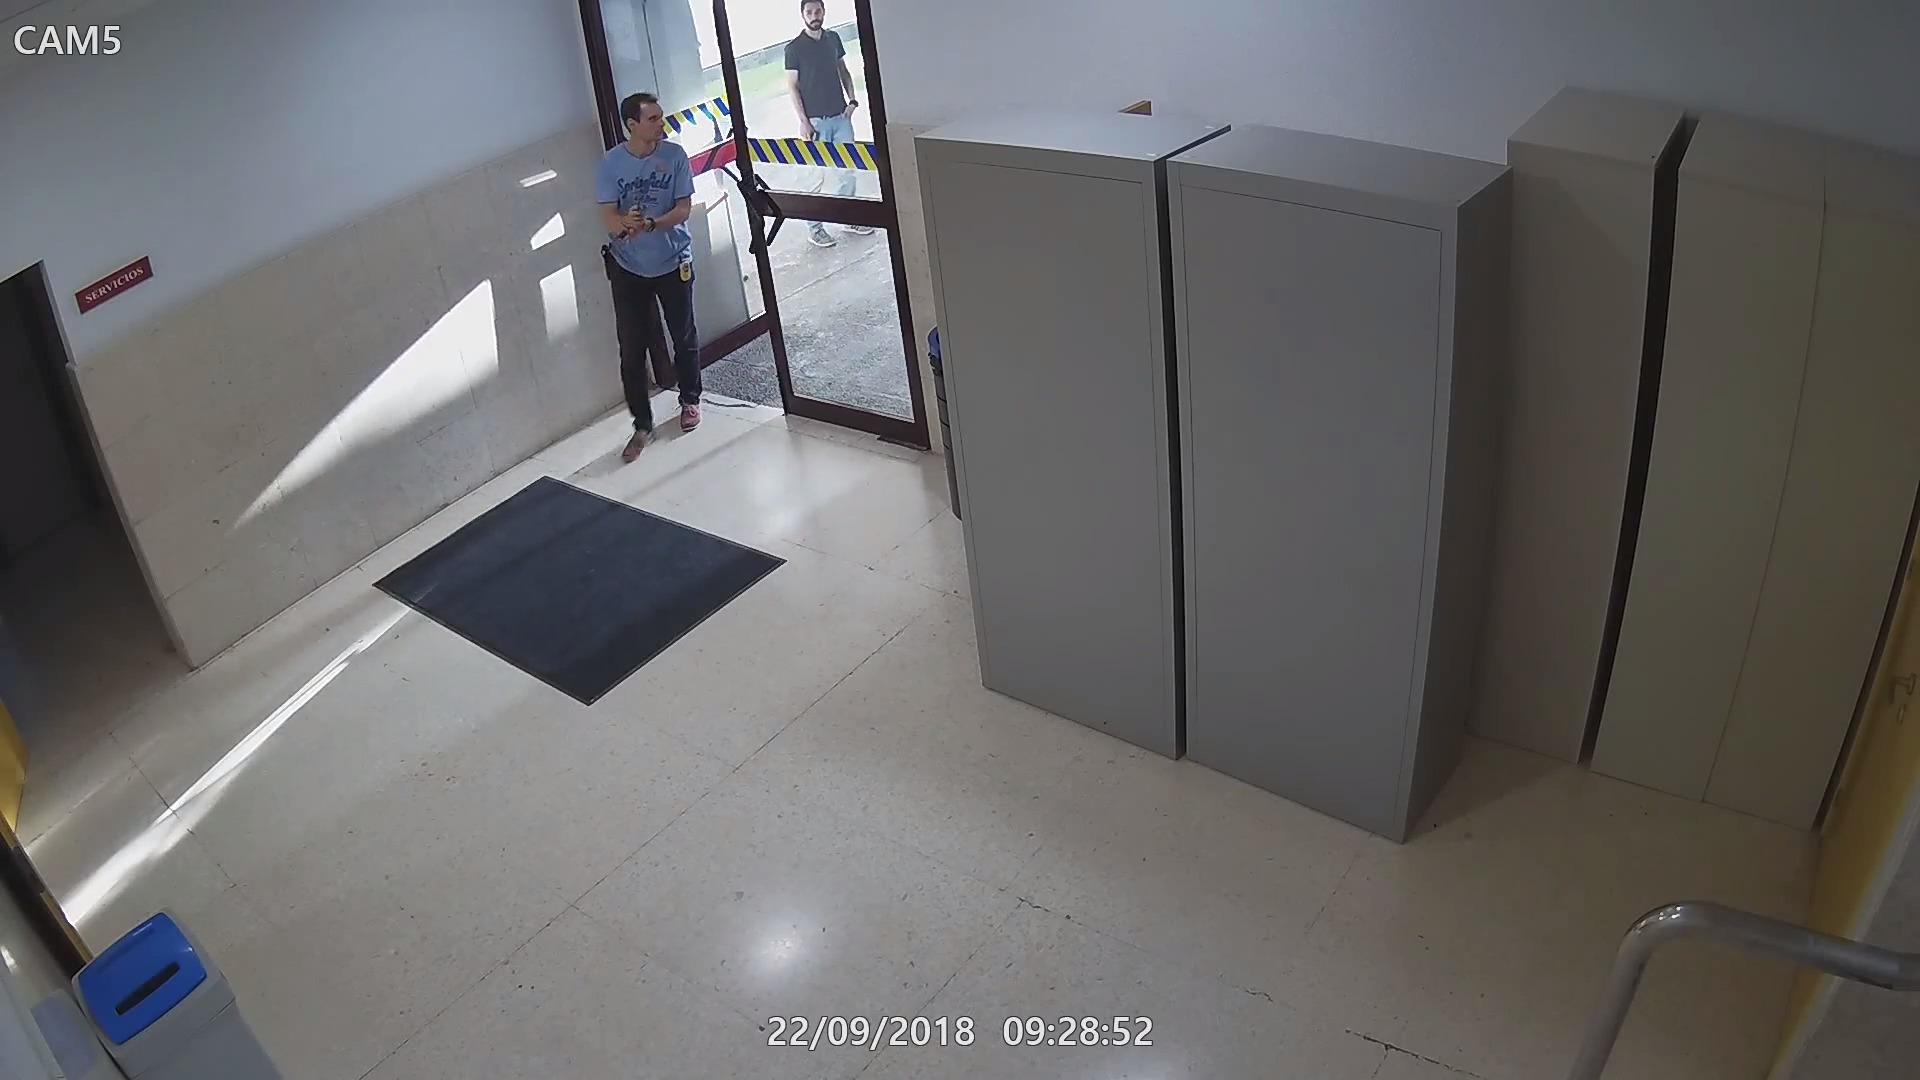Handgun: (615, 195, 651, 232)
Knife: (585, 219, 655, 262)
